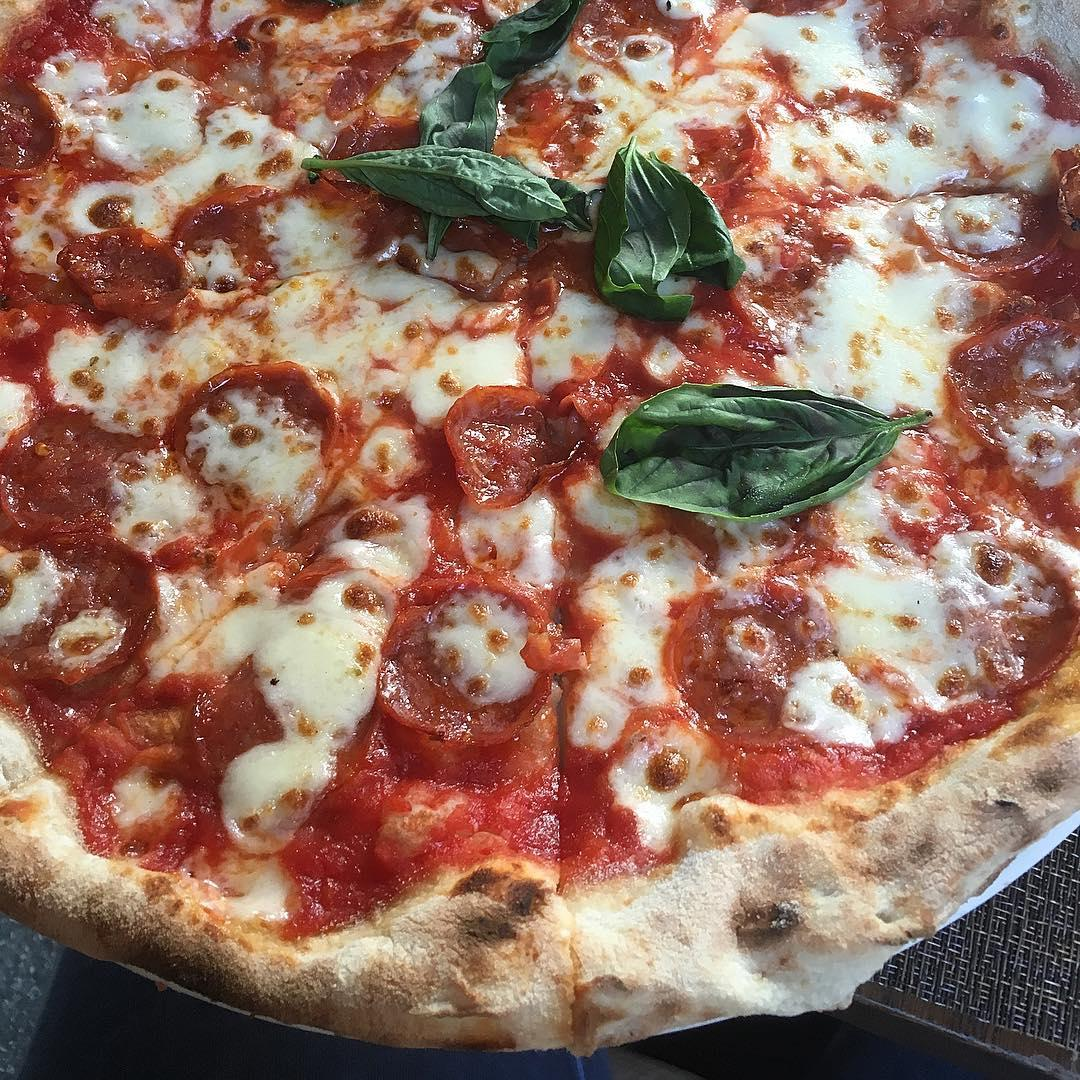Basil: (613, 377, 881, 516), (309, 140, 574, 246), (600, 137, 738, 317), (412, 0, 572, 138)
Cheese: (763, 13, 1049, 184), (263, 259, 588, 374), (229, 579, 382, 816), (573, 533, 678, 765), (81, 81, 281, 198), (825, 535, 929, 733), (809, 265, 946, 397)
Pepperoni: (382, 573, 553, 746), (689, 573, 827, 756), (0, 538, 158, 696), (927, 529, 1080, 692), (183, 361, 343, 513), (0, 396, 147, 536), (435, 380, 590, 512), (958, 327, 1080, 475), (52, 215, 202, 317)
Pizza: (0, 0, 1080, 1050)
